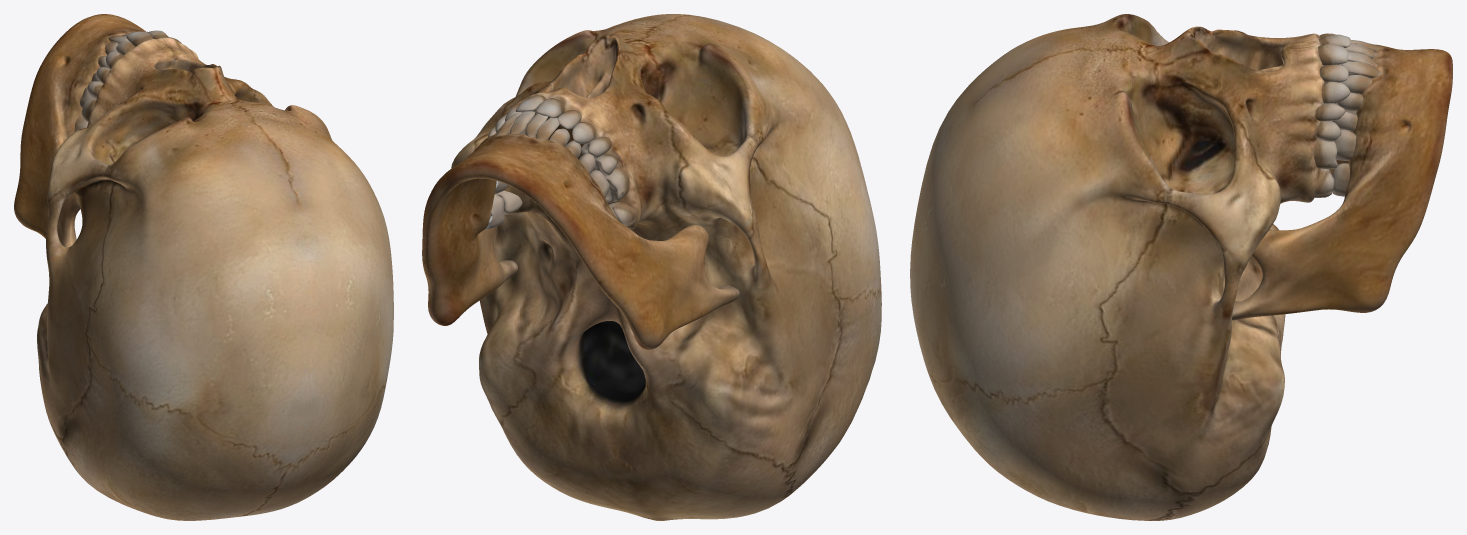
The model's file is crane3gltff.gltf.
3 views of the same model, side by side, from view 1: azimuth 30°, elevation 25°; view 2: azimuth 150°, elevation 25°; view 3: azimuth 270°, elevation 25° (orthographic). The views are drawn at different scales.
Visible parts, largest first — view 1: 12140_Skull_v3_L2; view 2: 12140_Skull_v3_L2; view 3: 12140_Skull_v3_L2.
Boxes of the visible parts, <box> form: 12140_Skull_v3_L2: <box>14,14,393,520</box>; 12140_Skull_v3_L2: <box>422,14,881,520</box>; 12140_Skull_v3_L2: <box>910,14,1452,520</box>.
Size of the model in its own units: 0.2666 by 0.3822 by 0.393.
Materials: 1 (1 with a texture image).
